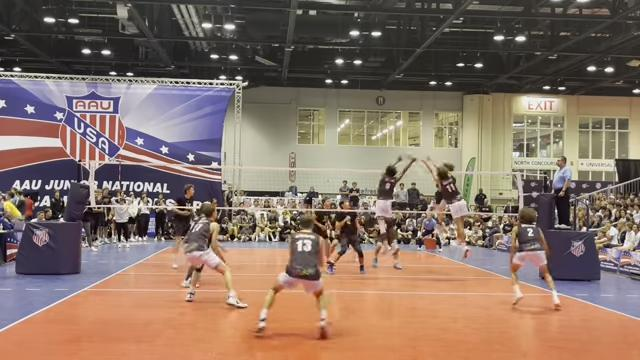Attack: (432, 160, 456, 237)
Block: (422, 152, 476, 262), (372, 151, 418, 258)
Player: (256, 216, 326, 338), (183, 204, 247, 307), (510, 207, 560, 308), (327, 201, 364, 273), (172, 184, 194, 268), (312, 200, 330, 254)
ball: (402, 152, 414, 161)
